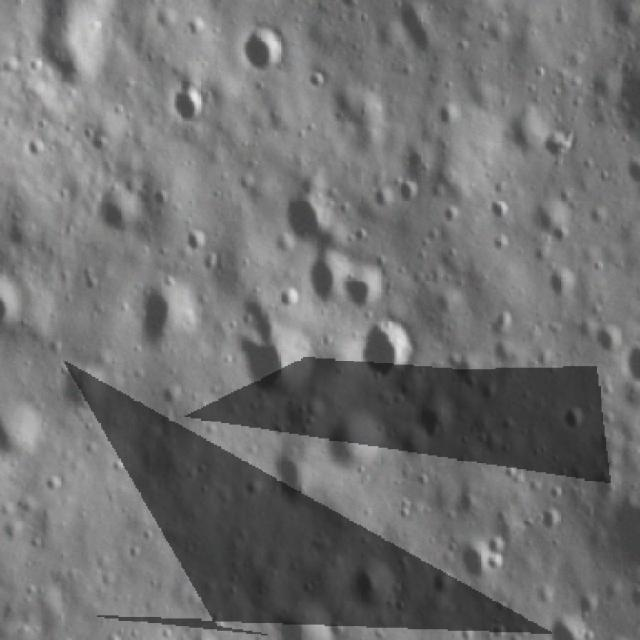crater: (238, 306, 317, 400), (27, 18, 108, 100), (320, 408, 388, 480), (258, 446, 324, 520), (132, 277, 192, 358), (275, 187, 340, 251), (356, 320, 418, 386), (598, 494, 640, 578), (86, 188, 146, 245), (502, 103, 558, 162), (239, 19, 292, 78), (346, 562, 400, 618), (61, 360, 110, 420), (0, 405, 45, 469), (390, 2, 436, 63), (301, 250, 348, 308), (257, 600, 325, 640), (339, 259, 384, 315), (456, 534, 498, 588), (543, 606, 597, 640), (417, 396, 452, 446), (543, 267, 582, 310), (539, 128, 578, 169), (173, 84, 209, 127), (592, 324, 628, 361), (560, 405, 592, 443), (176, 224, 210, 258), (433, 99, 464, 132), (538, 505, 565, 538), (624, 336, 640, 390), (394, 178, 420, 211), (152, 181, 178, 214), (368, 183, 394, 215), (621, 153, 640, 190), (488, 192, 510, 223), (308, 63, 328, 95), (332, 0, 363, 14), (411, 0, 454, 9)
